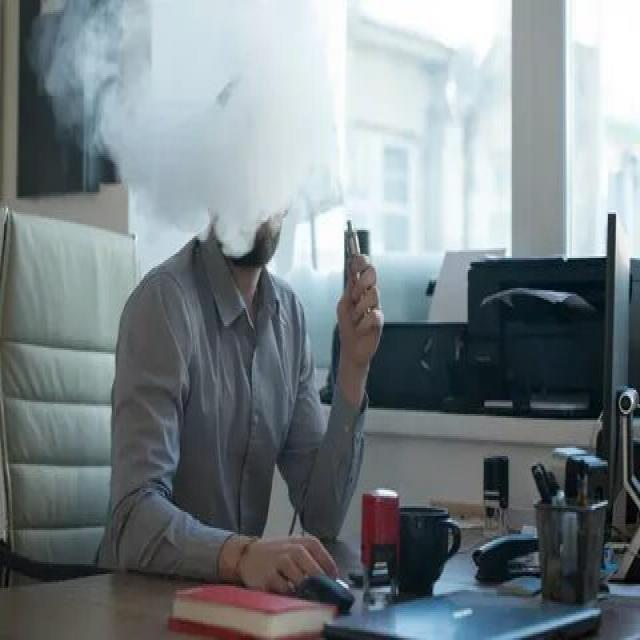cigarette: (343, 210, 376, 330)
